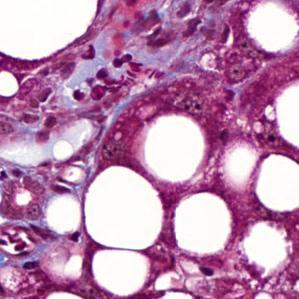steatosis: (80, 162, 165, 251), (248, 143, 299, 208)
